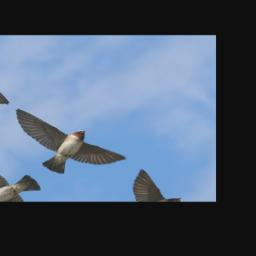Swallow: (0, 94, 128, 192)
